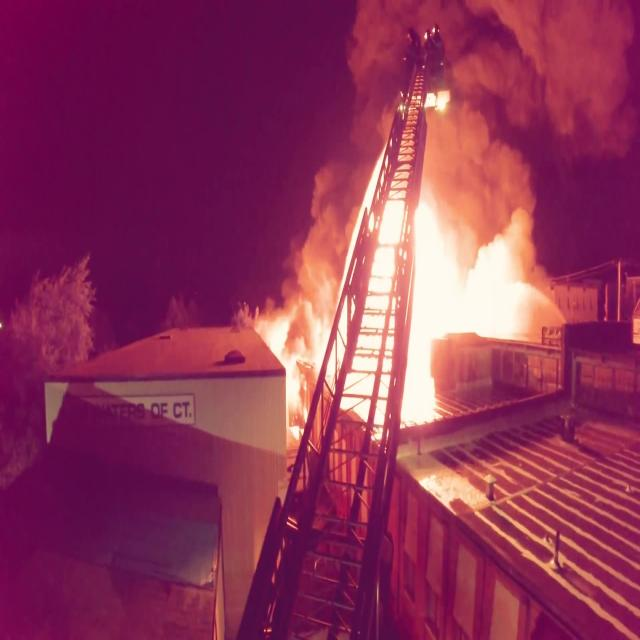Fire: (259, 190, 469, 448)
Smoke: (272, 0, 640, 364)
